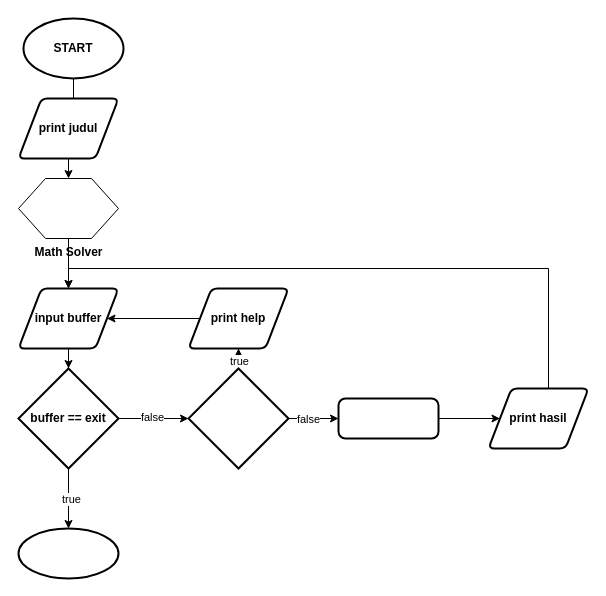
The diagram is 606 pixels wide and 596 high, and some of its shapes have lost their labels. The shapes that lost their labels are listed below. From the top down, each one's centre as x and y in pixels, then its label:
point 238,418: buffer == help
point 388,418: evaluate
point 68,553: END
